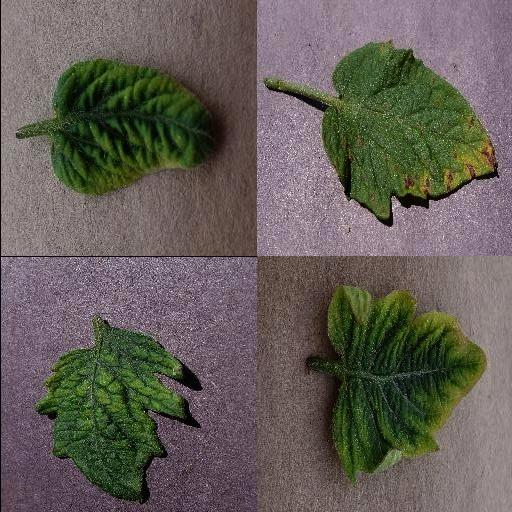Mosaic Virus: (35, 328, 186, 506)
Septoria: (318, 42, 496, 220)
Yellow Leaf Curl Virus: (325, 283, 487, 483), (51, 60, 217, 196)
